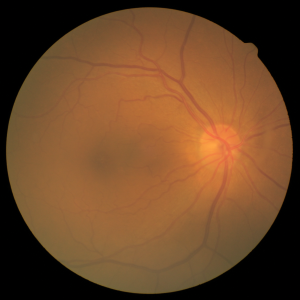cataract: (79, 91, 271, 212)
